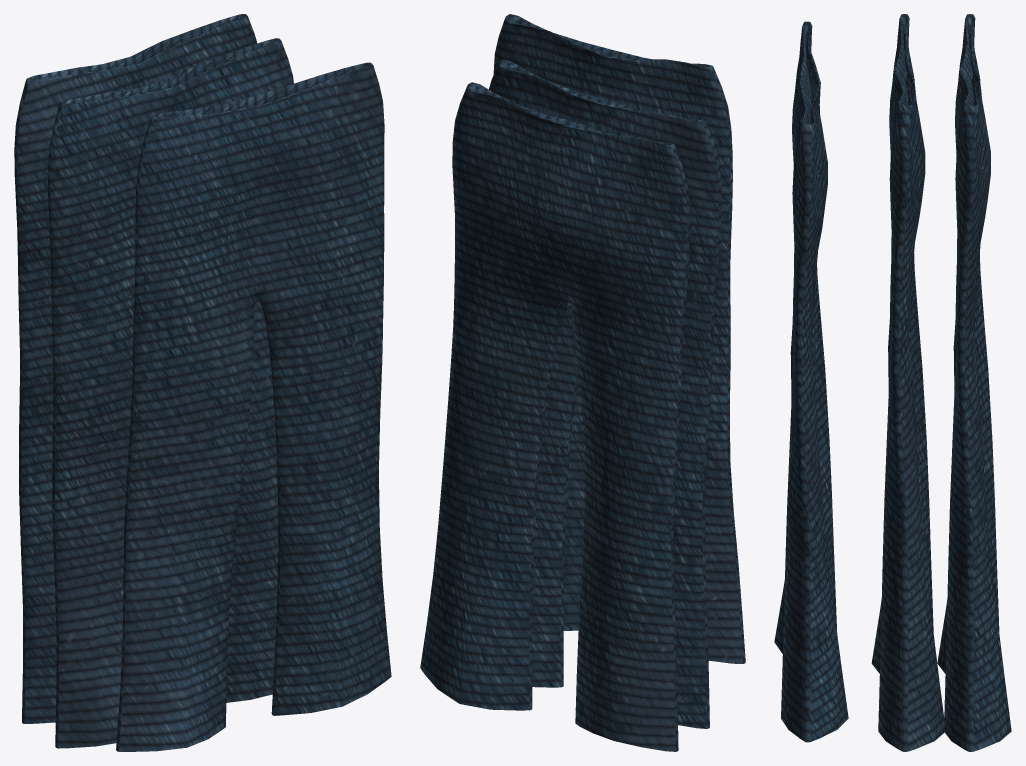
File: yifu12kuzi_01.fbx
3 views of the same model, side by side, from view 1: azimuth 30°, elevation 25°; view 2: azimuth 150°, elevation 25°; view 3: azimuth 270°, elevation 25° (orthographic). The views are drawn at different scales.
Parts seen in each view (by area): view 1: yifu12kuzi_01; view 2: yifu12kuzi_01; view 3: yifu12kuzi_01.
Boxes of the visible parts, x1=… form: yifu12kuzi_01: x1=14, y1=14, x2=391, y2=751; yifu12kuzi_01: x1=420, y1=14, x2=745, y2=751; yifu12kuzi_01: x1=774, y1=14, x2=1011, y2=751.
Size of the model in its own units: 46.91 by 99.5 by 33.1.
